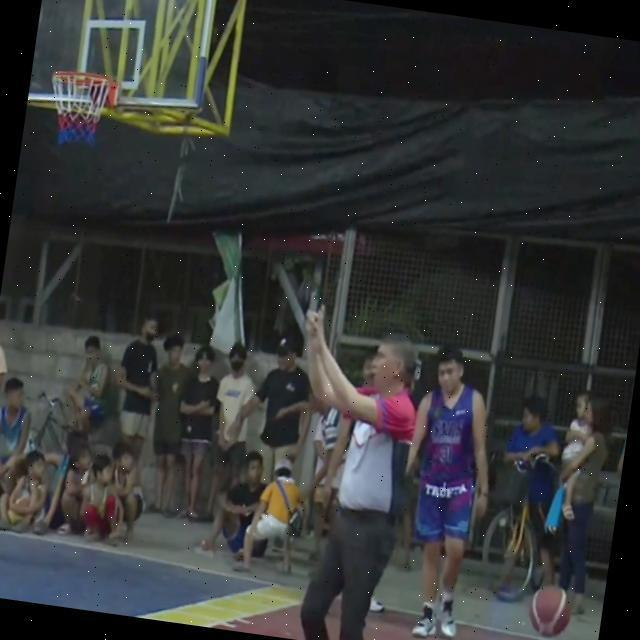ball: (521, 575, 581, 640)
